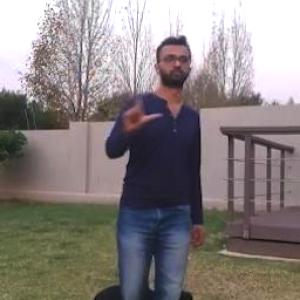land_hand: (120, 82, 165, 132)
